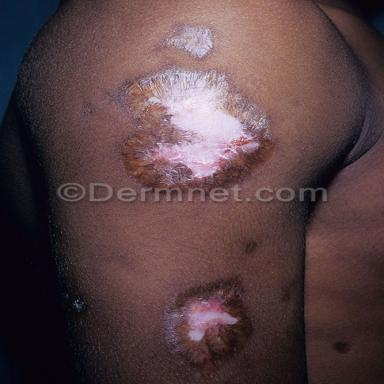Lupus-Erythematosus-Chronicus-Discoides: (109, 67, 275, 187), (167, 280, 252, 374), (157, 24, 217, 60)
